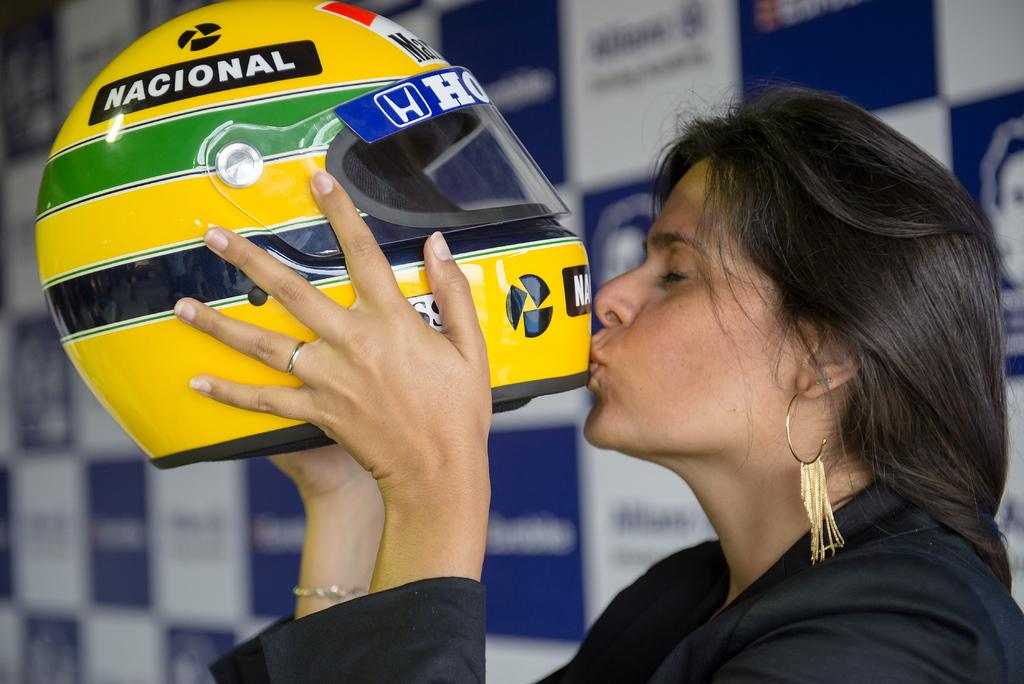helmet: (34, 0, 593, 471)
nohelmet: (582, 91, 1005, 516)
